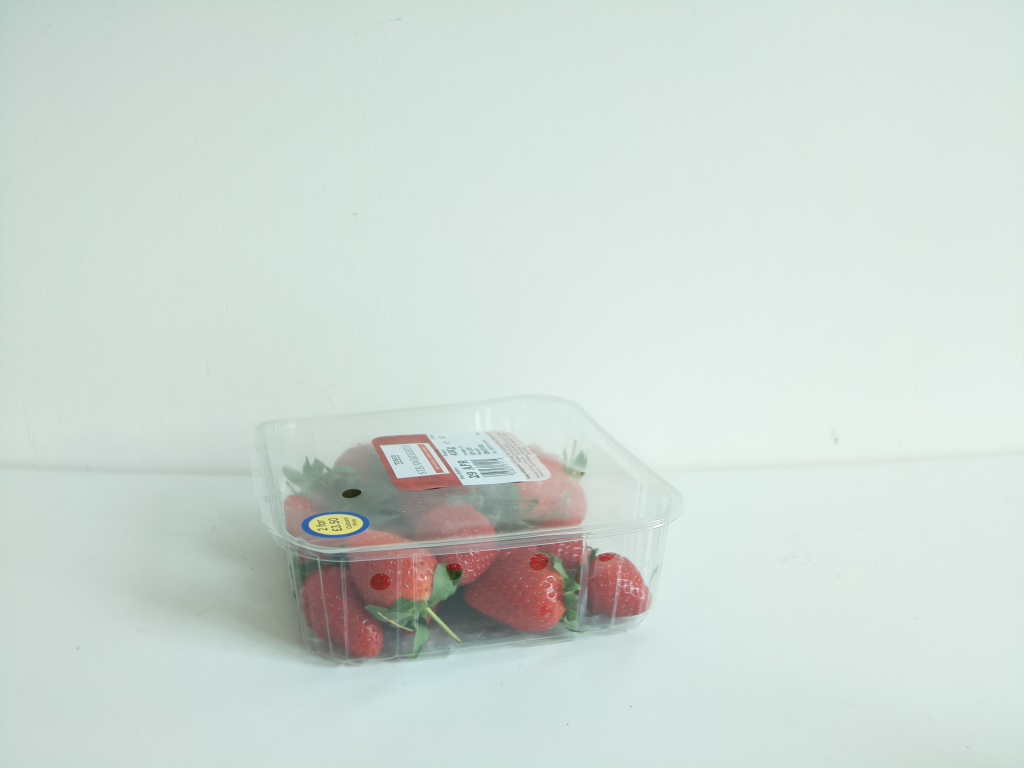soft-fruit: (247, 391, 680, 675)
